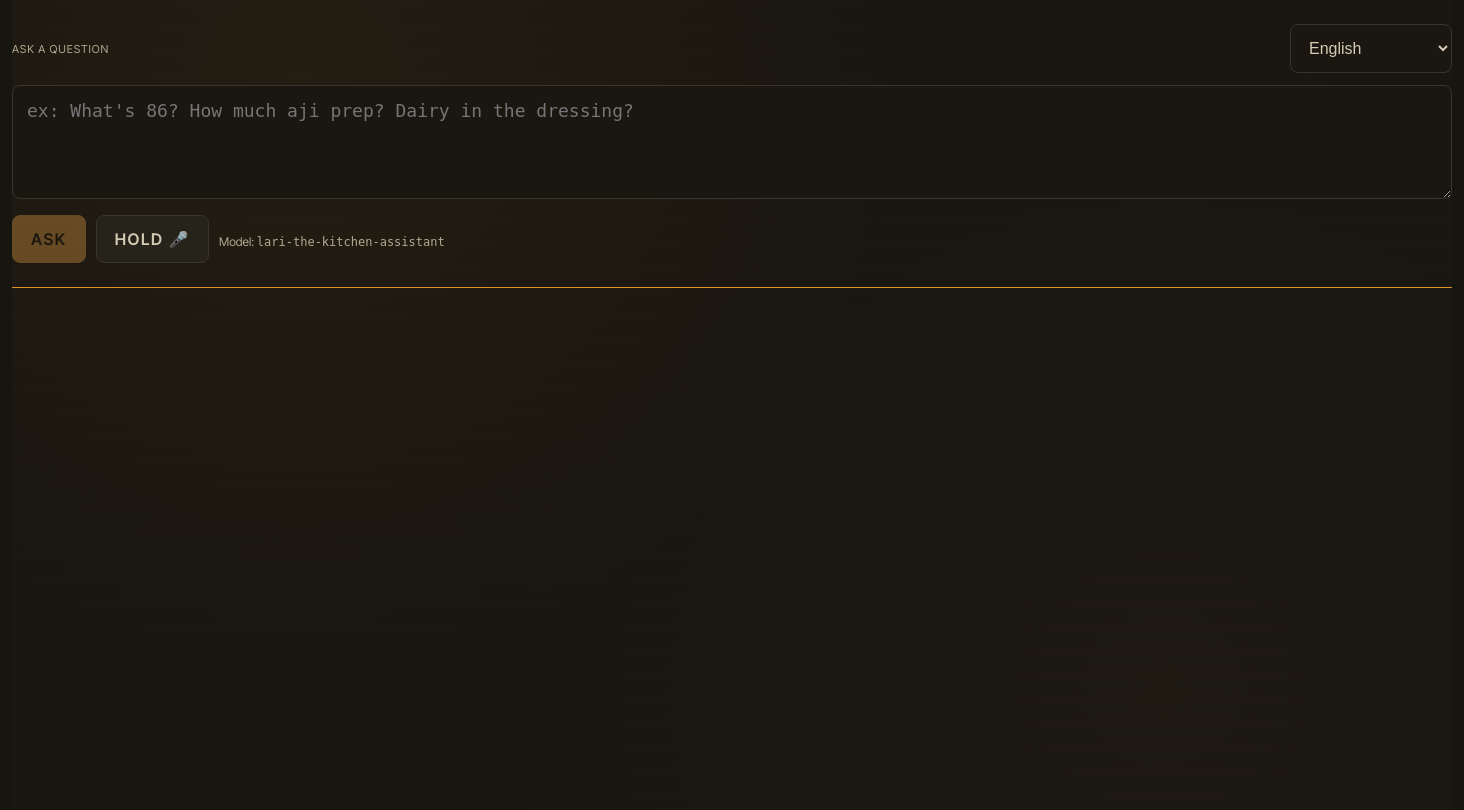
Test: shows the undo card with countdown and sends the undo request when tapped
This screenshot has width=1464, height=810.
Type "86 the salmon" into the text box labelled "Ask a question" at (732, 142), box [12,85,1452,199]
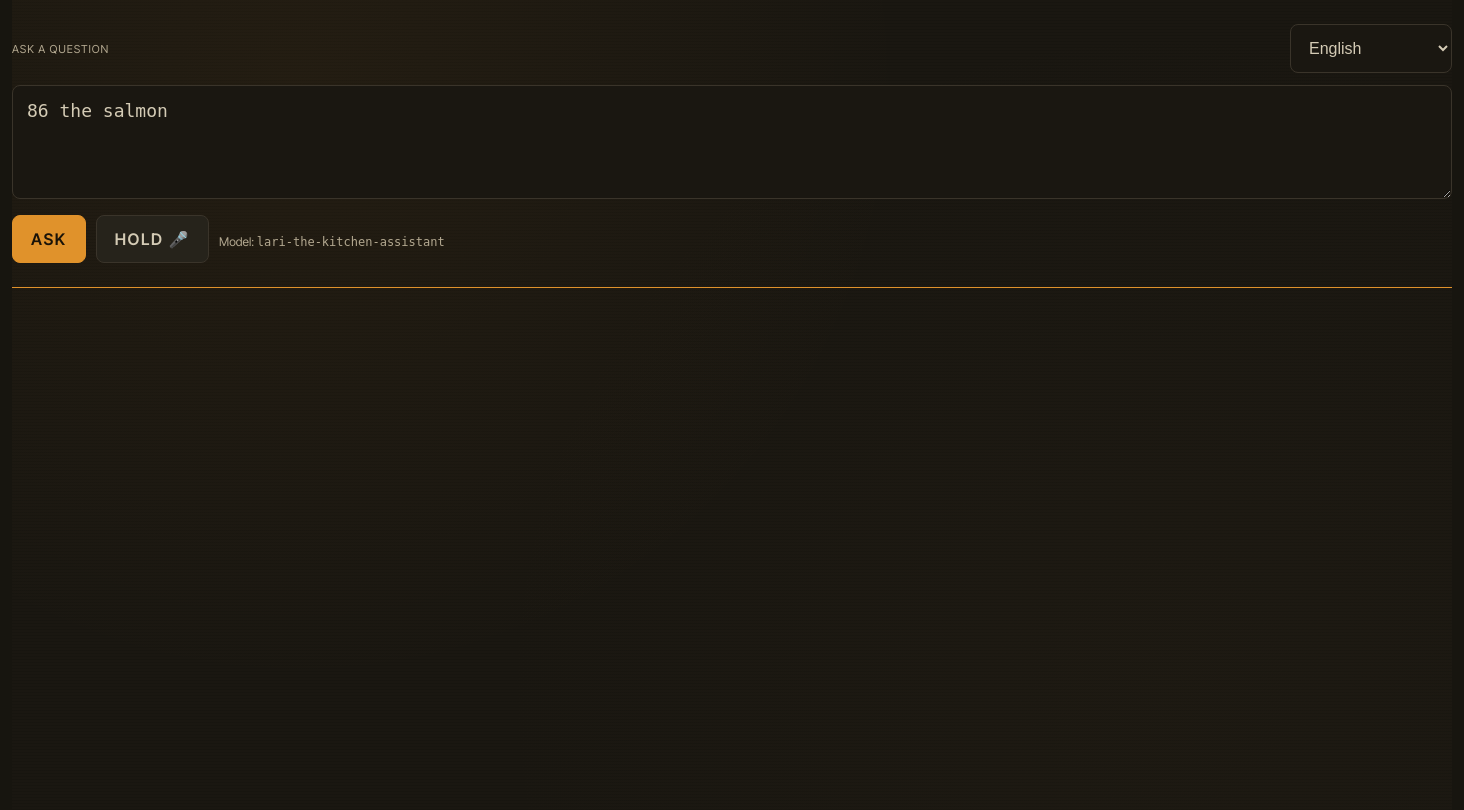
Click the button with aria-label "Ask kitchen assistant" at (49, 239), box [12,215,86,263]
Wait 2000 ms
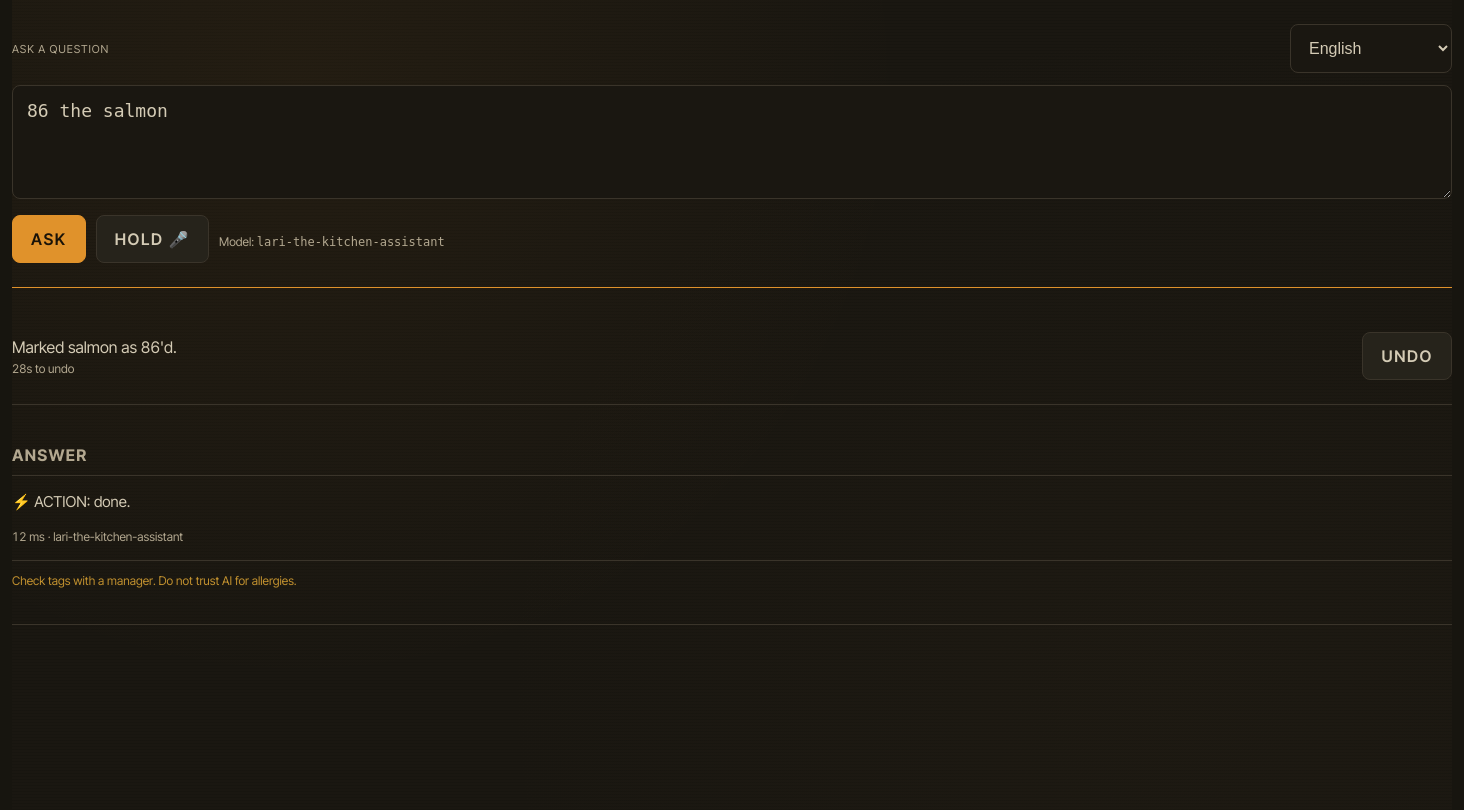
Expected: the text "Marked salmon as 86'd." is shown, [12,336,177,356]
Expected: the button with aria-label "Undo last action" is shown
Expected: the text "28s to undo" is shown, [12,360,74,376]
Click the button with aria-label "Undo last action" at (1407, 356), box [1362,332,1452,380]
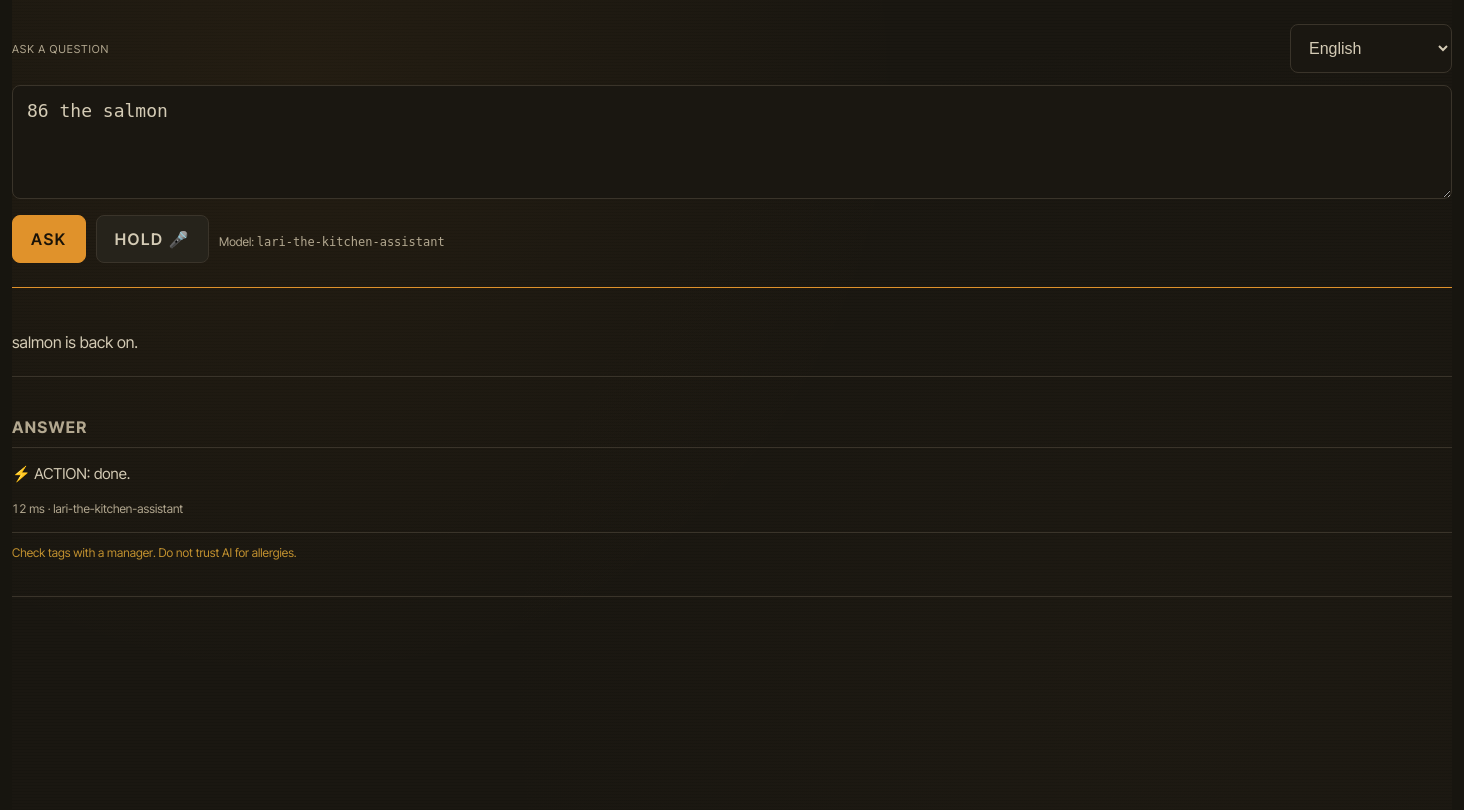
Expected: the text "salmon is back on." is shown, [12,332,138,352]
